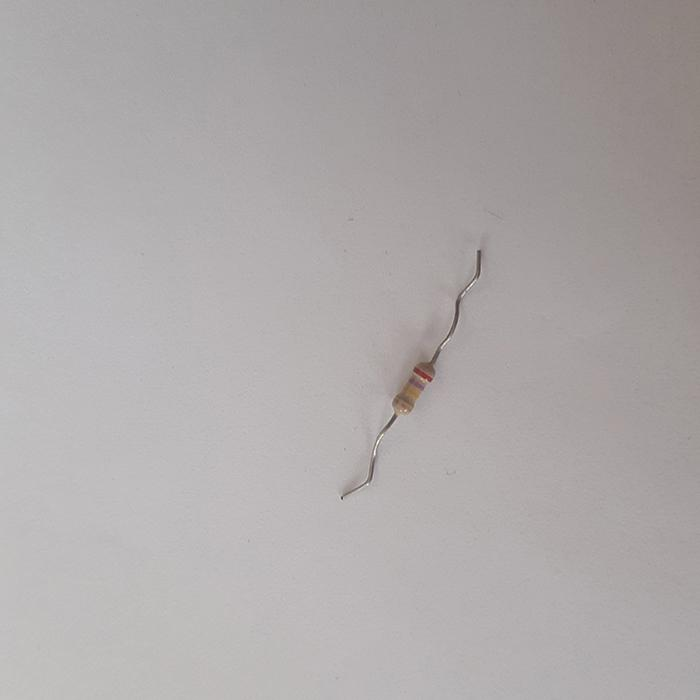resistor: (393, 359, 434, 416)
